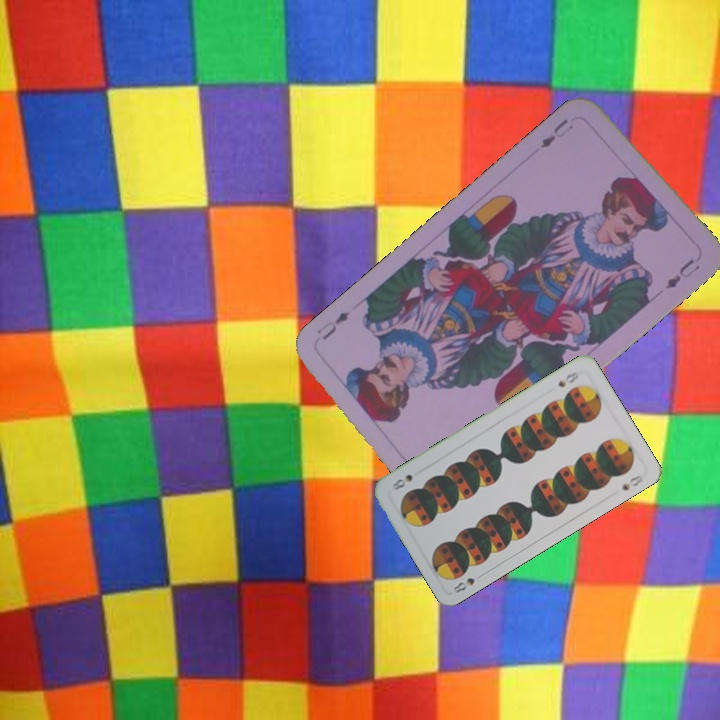EU: (536, 114, 576, 151)
S8: (449, 569, 487, 598), (554, 367, 581, 390)
